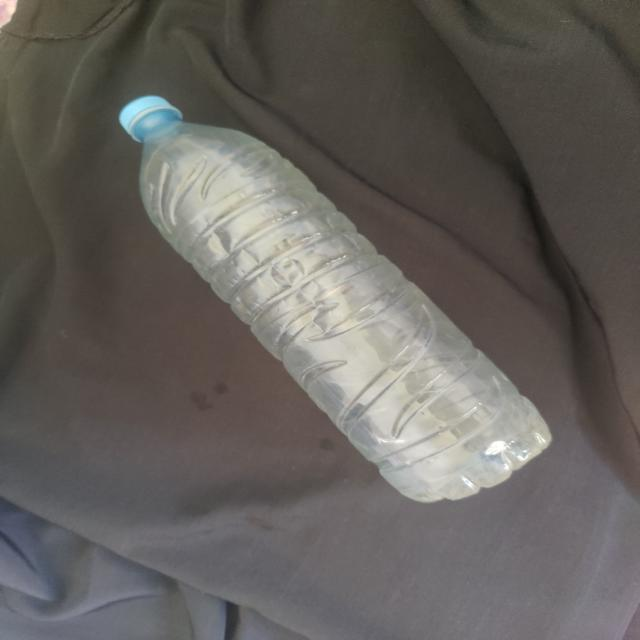plastic: (121, 93, 550, 501)
